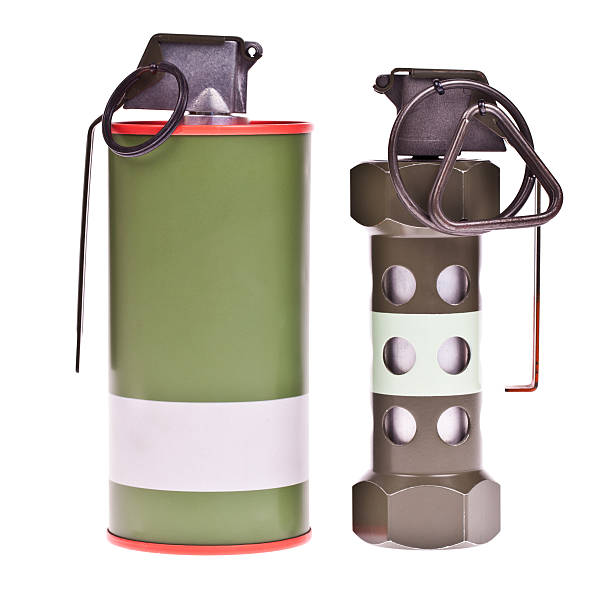e1: (68, 34, 317, 551), (349, 67, 559, 558)
